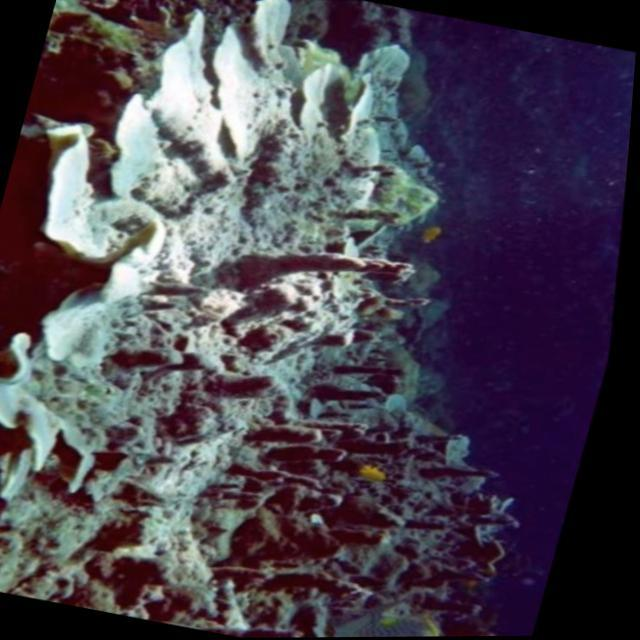Dead Coral: (0, 0, 553, 640), (64, 194, 458, 494), (197, 394, 574, 638)
